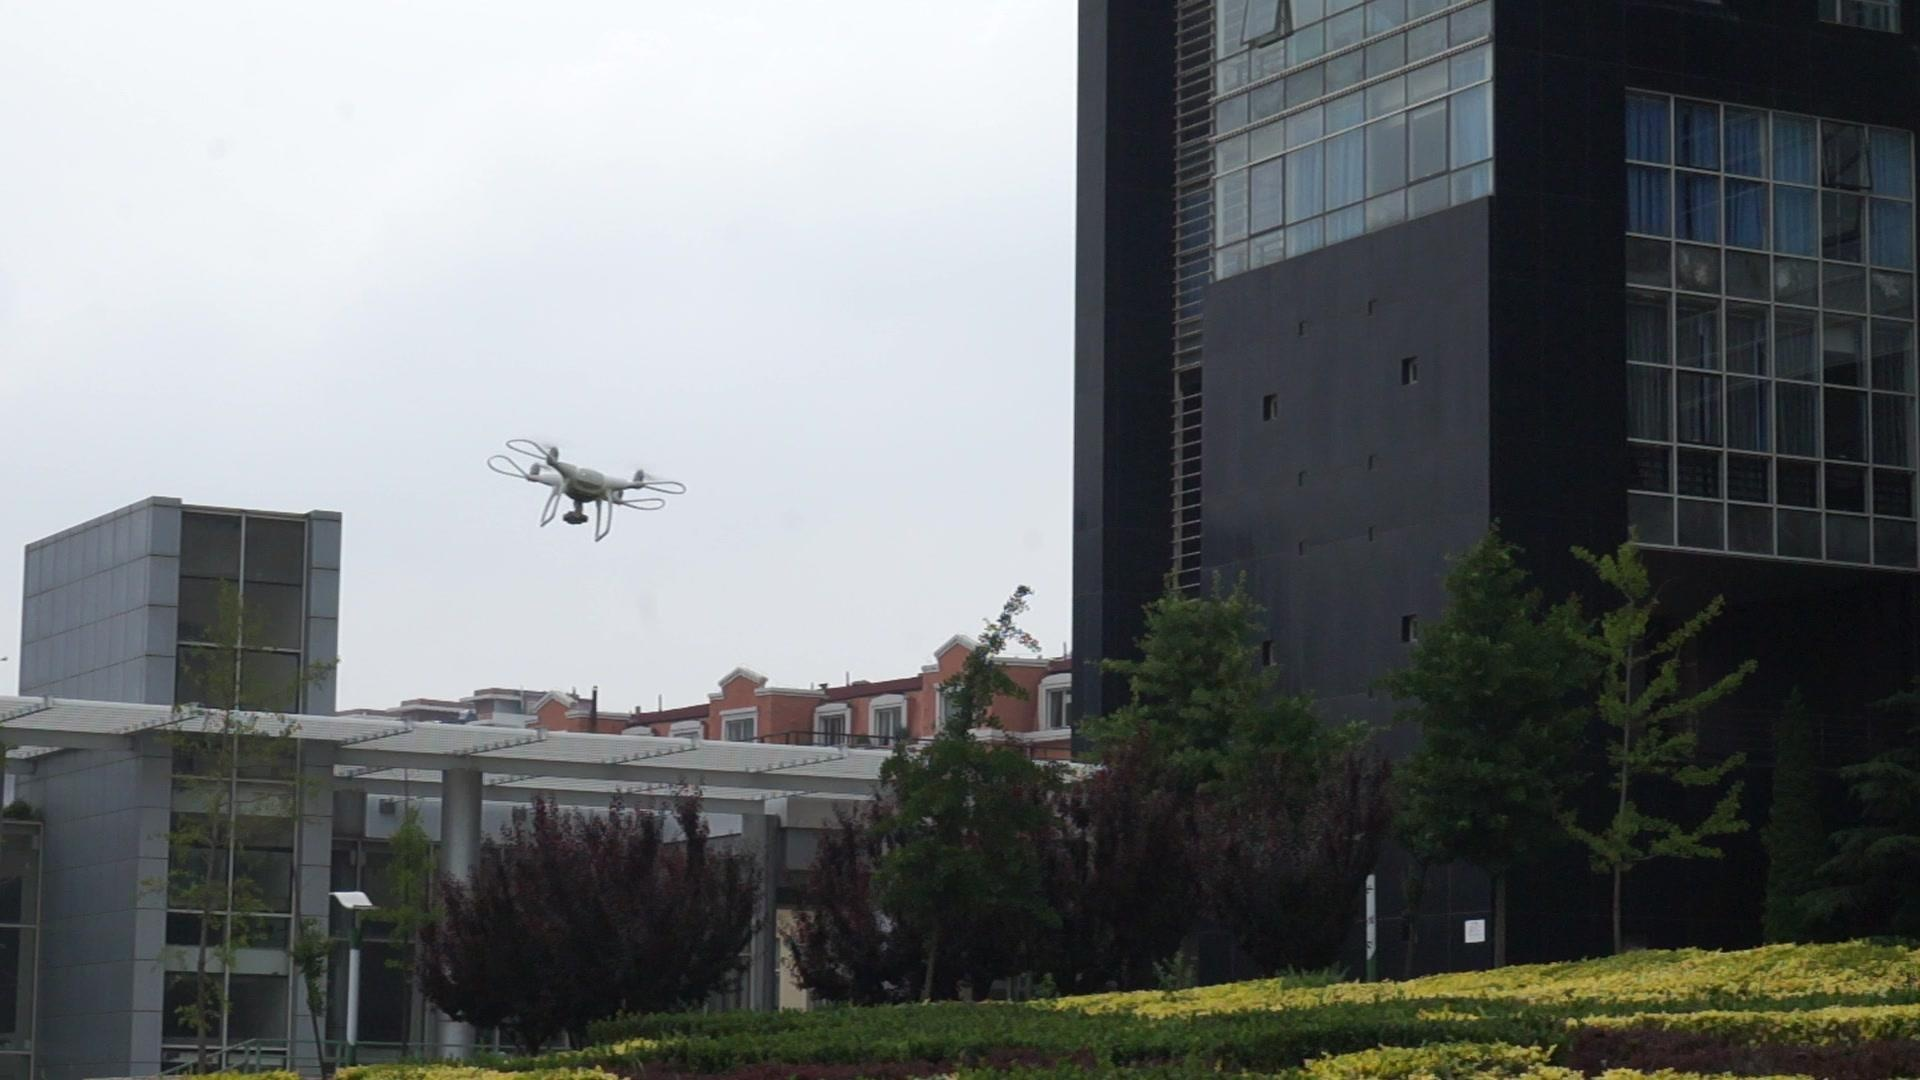UAV: (488, 439, 684, 541)
